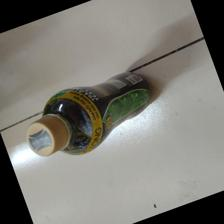Olong: (24, 68, 155, 159)
